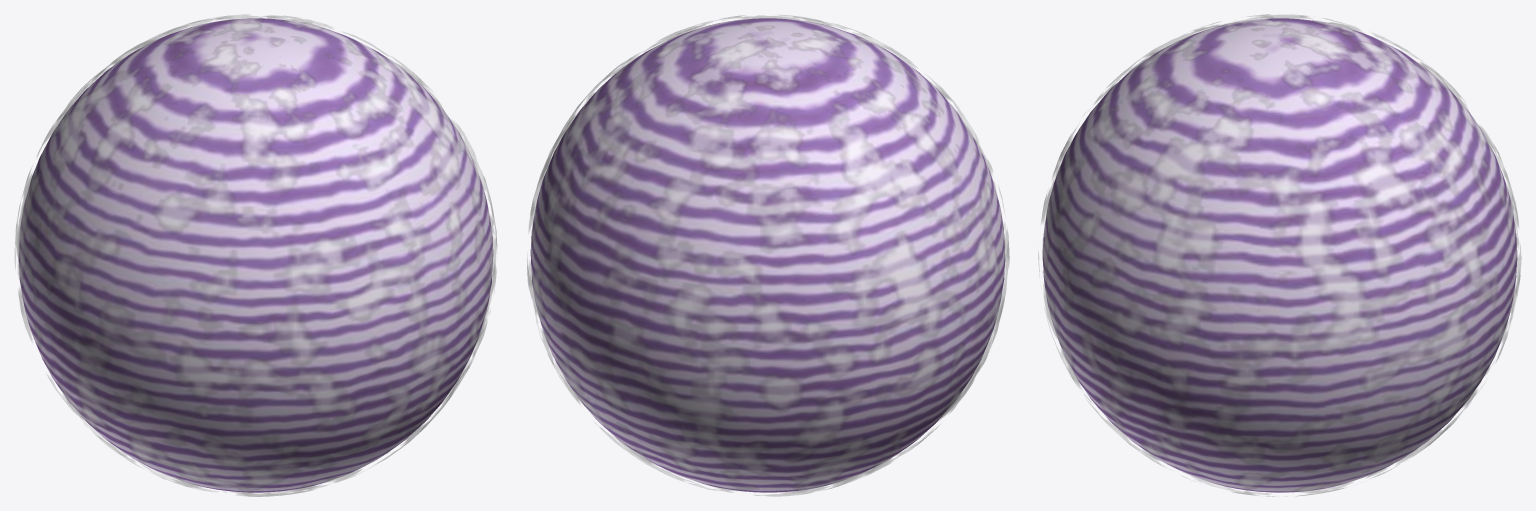
File: planet_gas_001.glb
The picture shows the model from 3 angles, left to right: view 1: azimuth 30°, elevation 25°; view 2: azimuth 150°, elevation 25°; view 3: azimuth 270°, elevation 25°; orthographic projection.
Parts seen in each view (by area): view 1: Planet_gas_001, Clouds_gas_001; view 2: Planet_gas_001, Clouds_gas_001; view 3: Planet_gas_001, Clouds_gas_001.
Part boxes in pixels (bbox=[...]): Planet_gas_001: bbox=[18, 18, 493, 492]; Clouds_gas_001: bbox=[14, 14, 497, 496]; Planet_gas_001: bbox=[530, 18, 1005, 492]; Clouds_gas_001: bbox=[527, 15, 1009, 496]; Planet_gas_001: bbox=[1042, 18, 1517, 492]; Clouds_gas_001: bbox=[1038, 14, 1521, 496].
Size of the model in its own units: 2.04 by 2.04 by 2.04.
2 materials, 2 textured.
